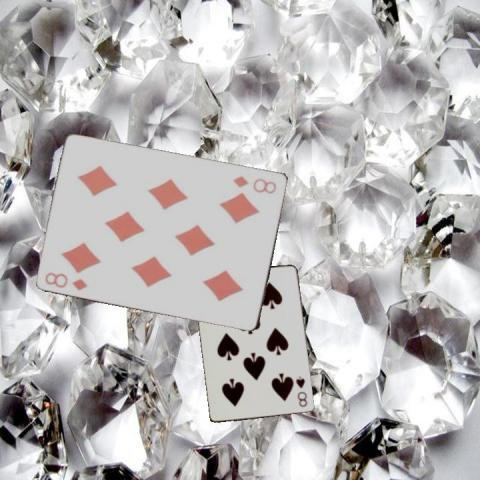8d: (230, 173, 278, 195), (42, 269, 89, 291)
8s: (293, 373, 309, 409)
